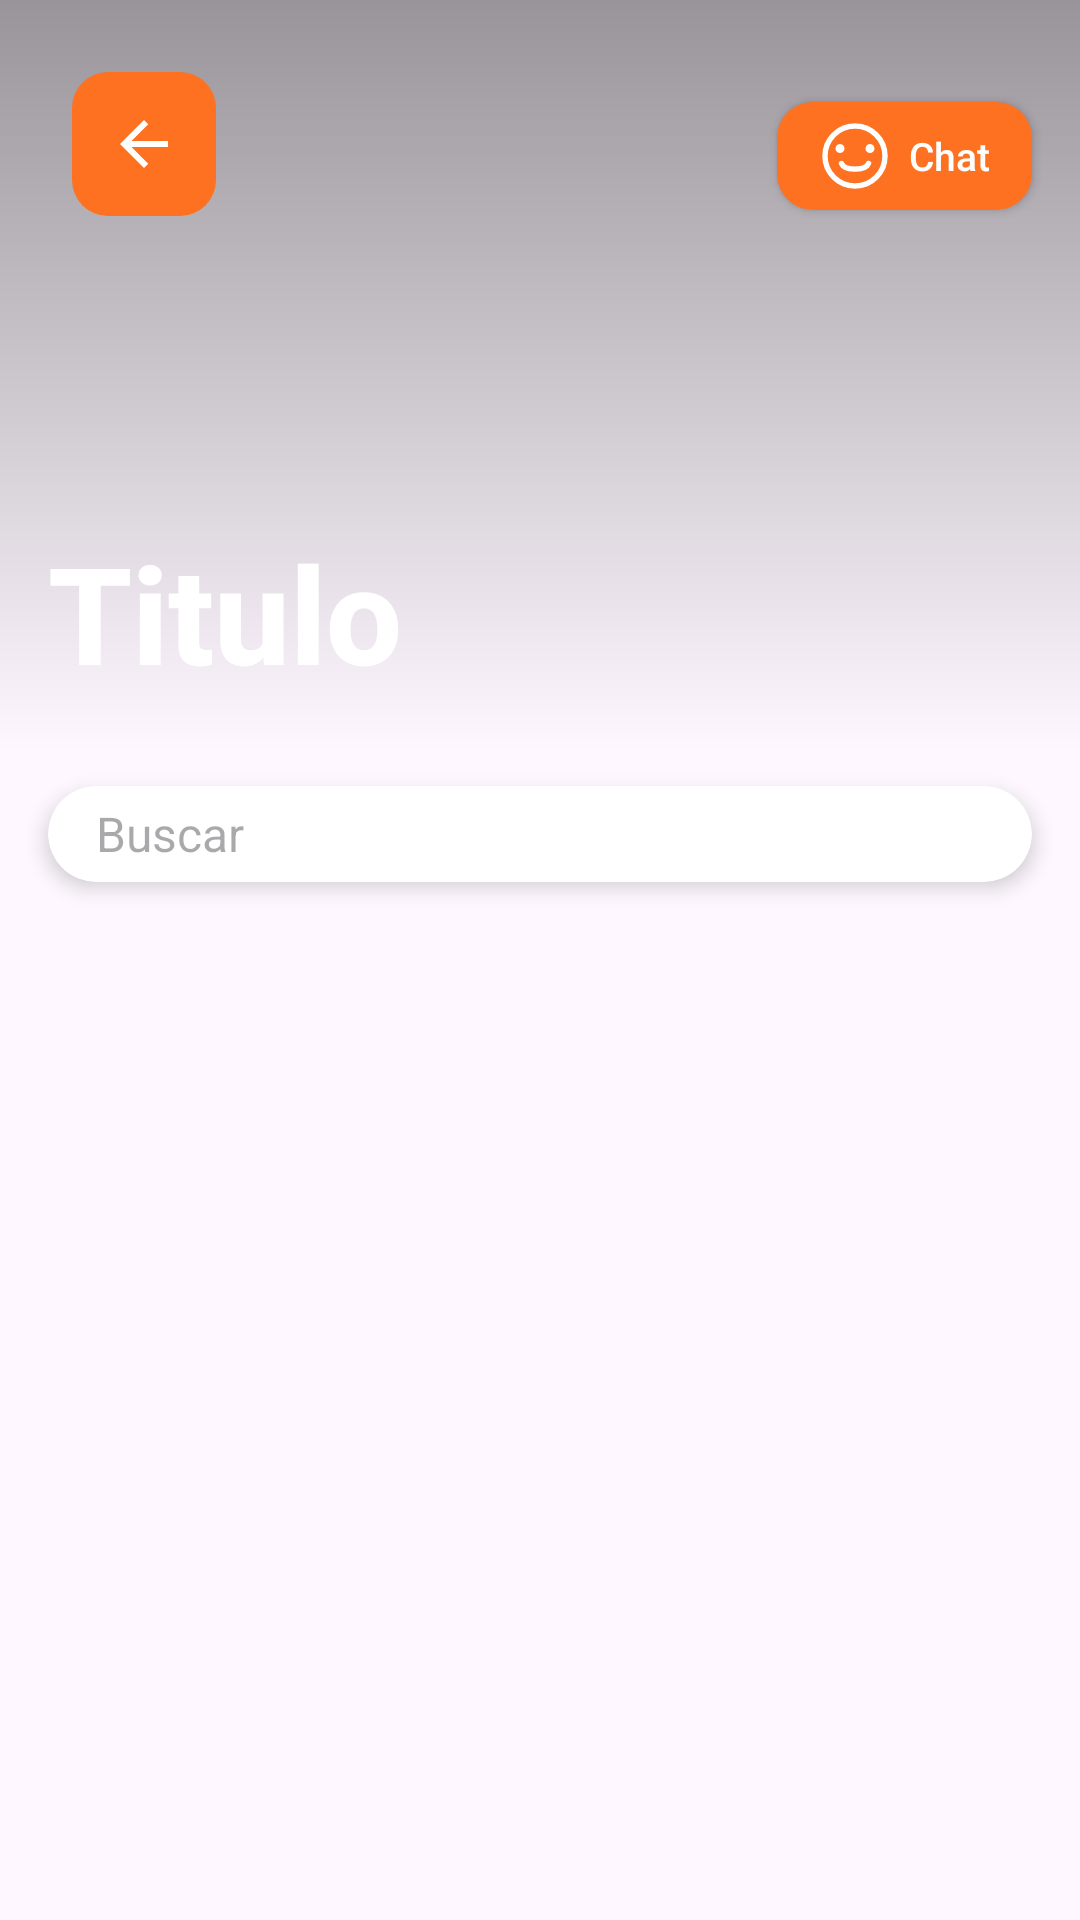

Where icons sit on this 1080*1920 app screen, as Rect(x1, y1, x2, y2):
Atras: Rect(72, 72, 216, 216)
